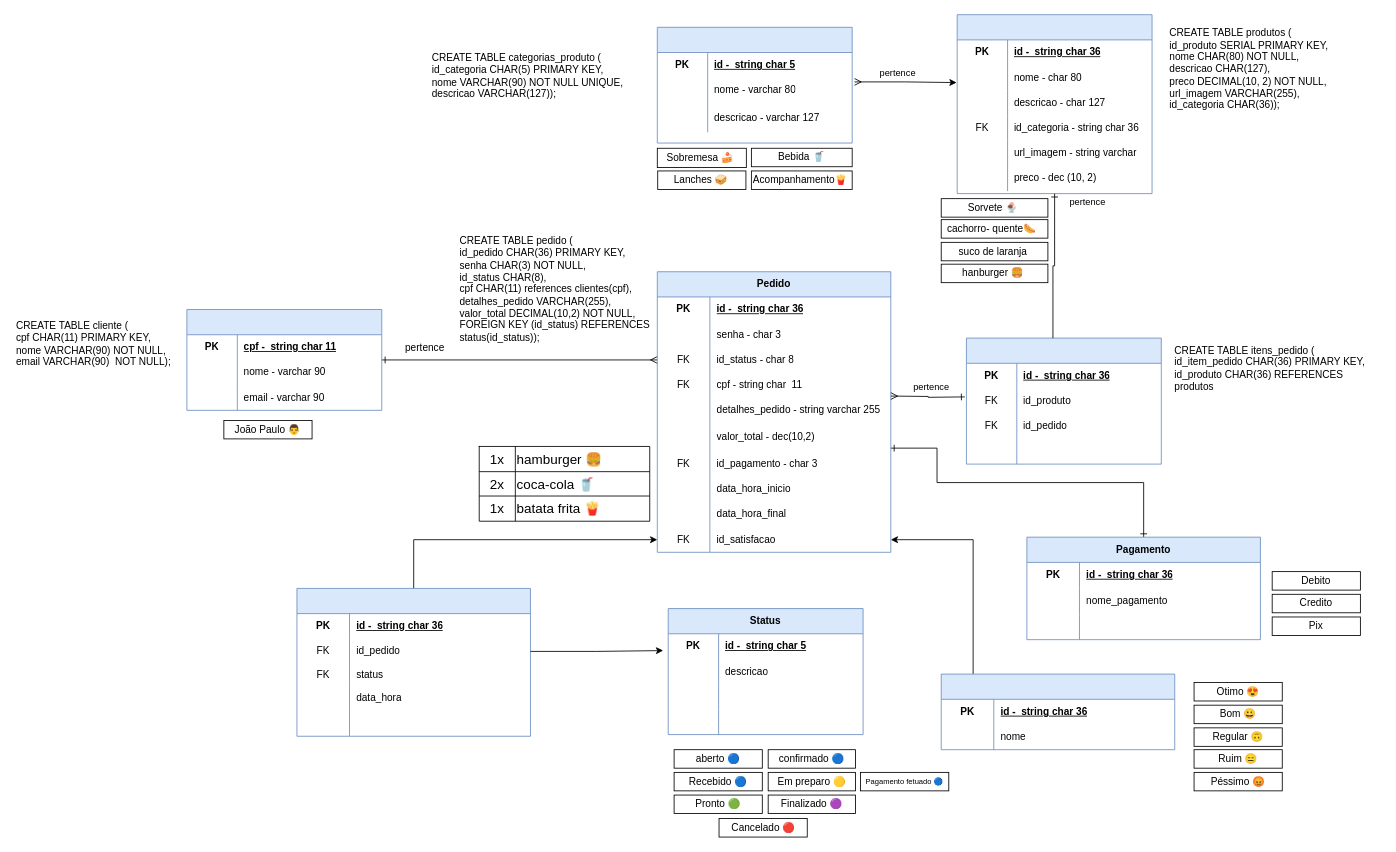
Some shapes in this 1396 by 852 pixel diagram are drawn without their labels. Each missing label, with the box of its shape:
Categoria: (656, 26, 852, 143)
Cliente: (186, 309, 382, 410)
Histórico: (296, 588, 530, 736)
itens_pedido: (966, 337, 1161, 464)
Produtos: (956, 14, 1152, 194)
Satisfação: (940, 673, 1175, 750)
